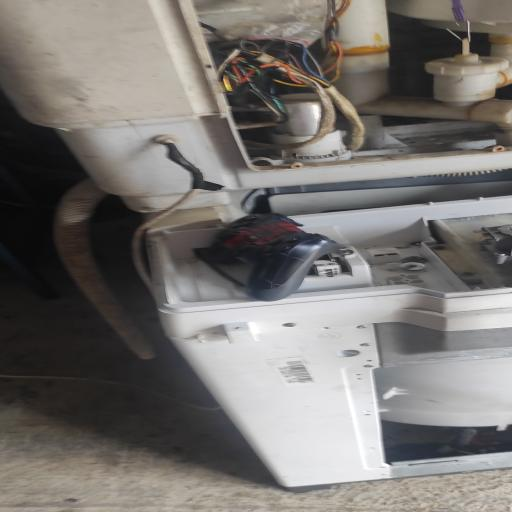ControlPlay4: (194, 213, 344, 301)
